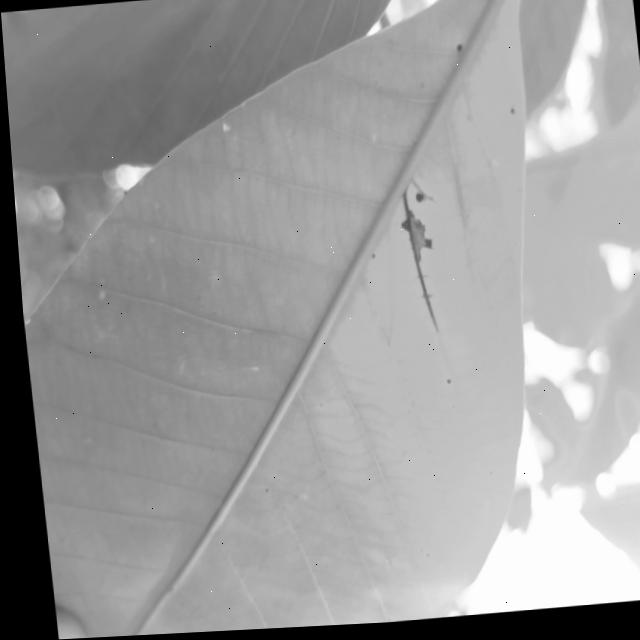Corynespora: (393, 181, 444, 337)
